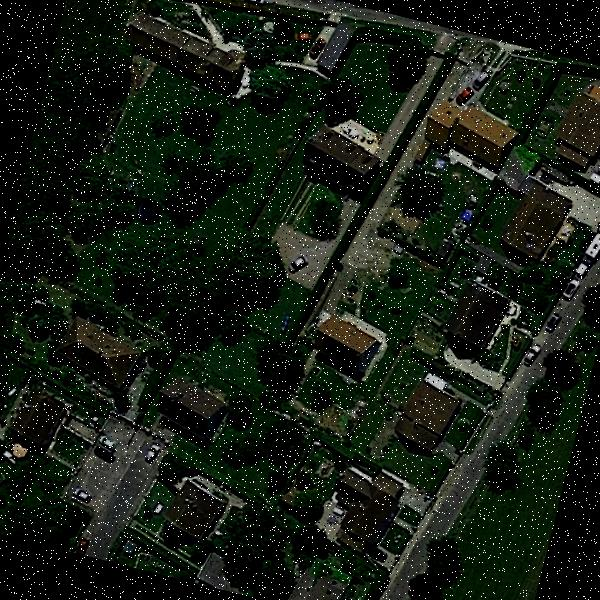Buildings: (110, 2, 258, 99), (416, 92, 520, 174), (50, 316, 142, 388), (332, 468, 403, 549), (393, 374, 466, 450), (503, 178, 568, 262), (302, 123, 380, 192), (300, 314, 378, 381), (153, 374, 228, 435), (553, 79, 600, 171), (446, 288, 507, 338), (19, 394, 66, 444), (171, 488, 218, 536)
